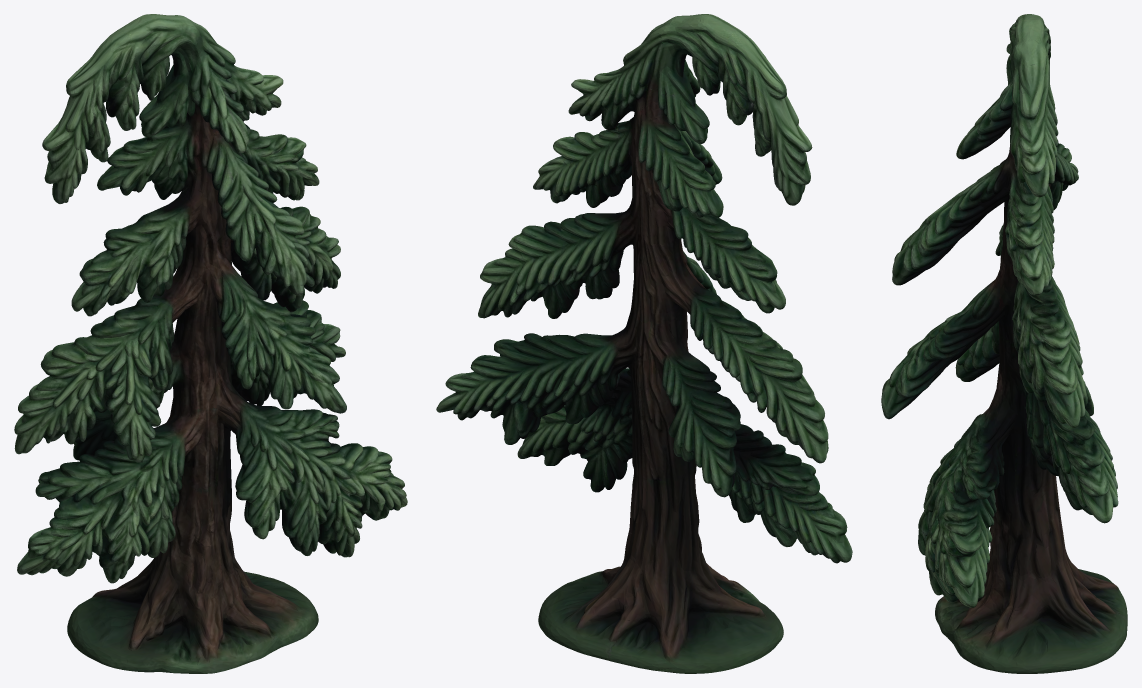
Rendered from western-hemlock.glb.
The picture shows the model from 3 angles, left to right: view 1: azimuth 30°, elevation 25°; view 2: azimuth 150°, elevation 25°; view 3: azimuth 270°, elevation 25°; orthographic projection. The views are drawn at different scales.
Parts seen in each view (by area): view 1: world; view 2: world; view 3: world.
Part boxes in pixels (bbox=[...]): world: bbox=[14, 14, 407, 673]; world: bbox=[436, 14, 852, 673]; world: bbox=[881, 14, 1127, 673].
Size of the model in its own units: 0.6214 by 0.996 by 0.381.
1 material, 1 textured.
